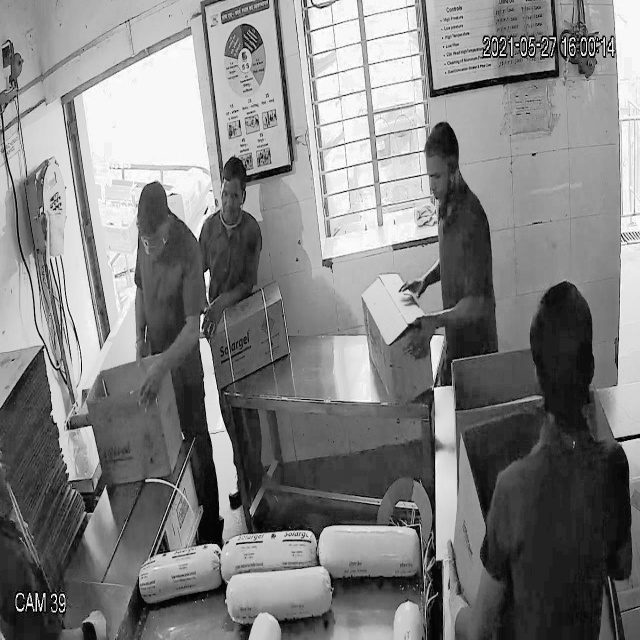Sin_gafas: (422, 160, 453, 191)
